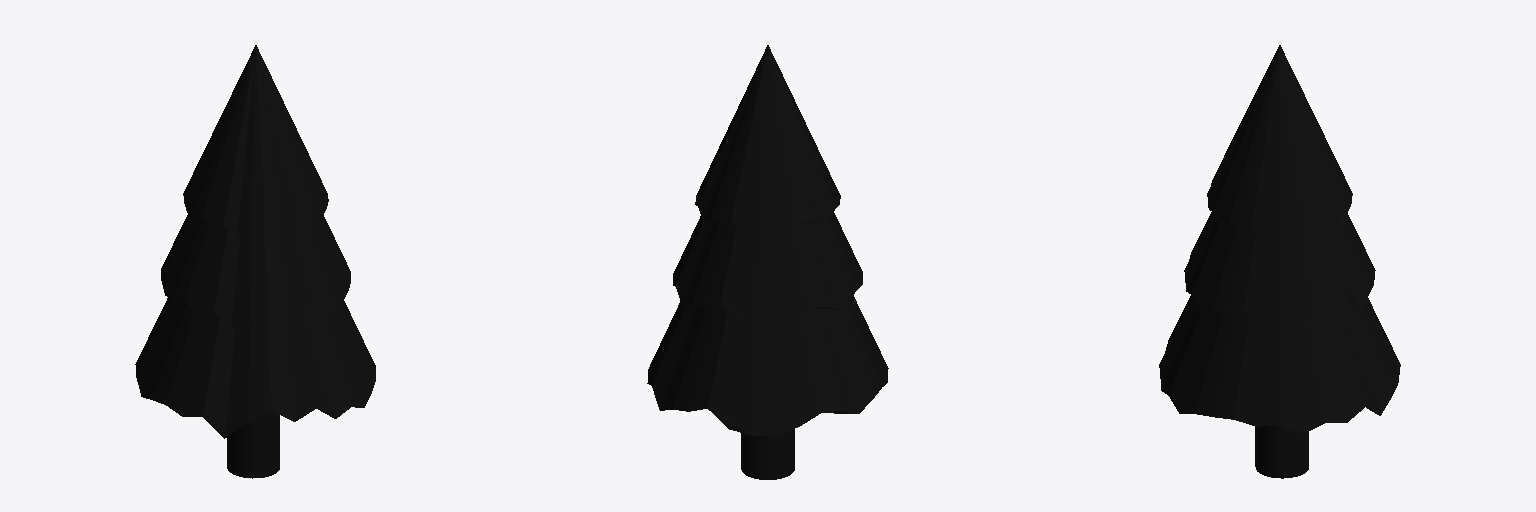
File: arvore.obj
3 views of the same model, side by side, from view 1: azimuth 30°, elevation 25°; view 2: azimuth 150°, elevation 25°; view 3: azimuth 270°, elevation 25° (orthographic).
Parts seen in each view (by area): view 1: Cone.002, Cone, Cone.001, Cylinder_Cylinder.001; view 2: Cone.002, Cone, Cone.001, Cylinder_Cylinder.001; view 3: Cone.002, Cone.001, Cone, Cylinder_Cylinder.001.
Boxes of the visible parts, x1,y1,x2,y2 form: Cone.002: [135, 297, 375, 438]; Cone: [161, 214, 350, 328]; Cone.001: [183, 45, 328, 237]; Cylinder_Cylinder.001: [227, 411, 279, 478]; Cone.002: [647, 295, 888, 435]; Cone: [673, 212, 862, 326]; Cone.001: [695, 45, 840, 236]; Cylinder_Cylinder.001: [741, 429, 794, 479]; Cone.002: [1159, 295, 1400, 433]; Cone.001: [1207, 45, 1352, 234]; Cone: [1184, 212, 1375, 324]; Cylinder_Cylinder.001: [1255, 426, 1308, 478].
Bounding box in the file's own units: 2.53 × 4.89 × 2.53.